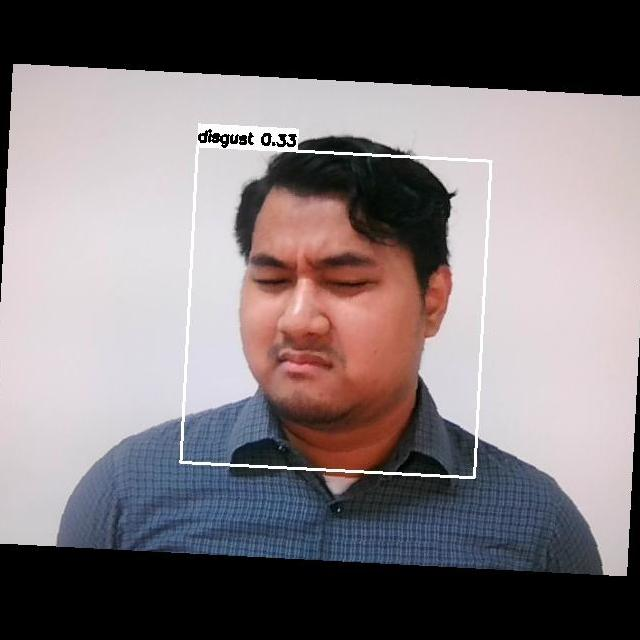Disgust: (229, 216, 410, 411)
